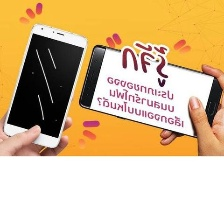phone: (75, 42, 224, 142), (0, 21, 89, 150)
